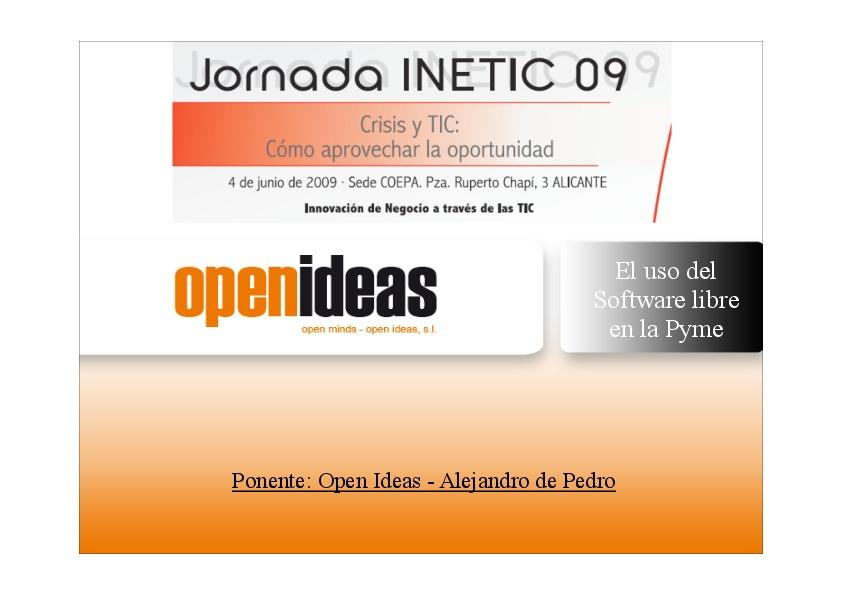subtitle: (154, 231, 504, 352)
title: (183, 45, 677, 168)
